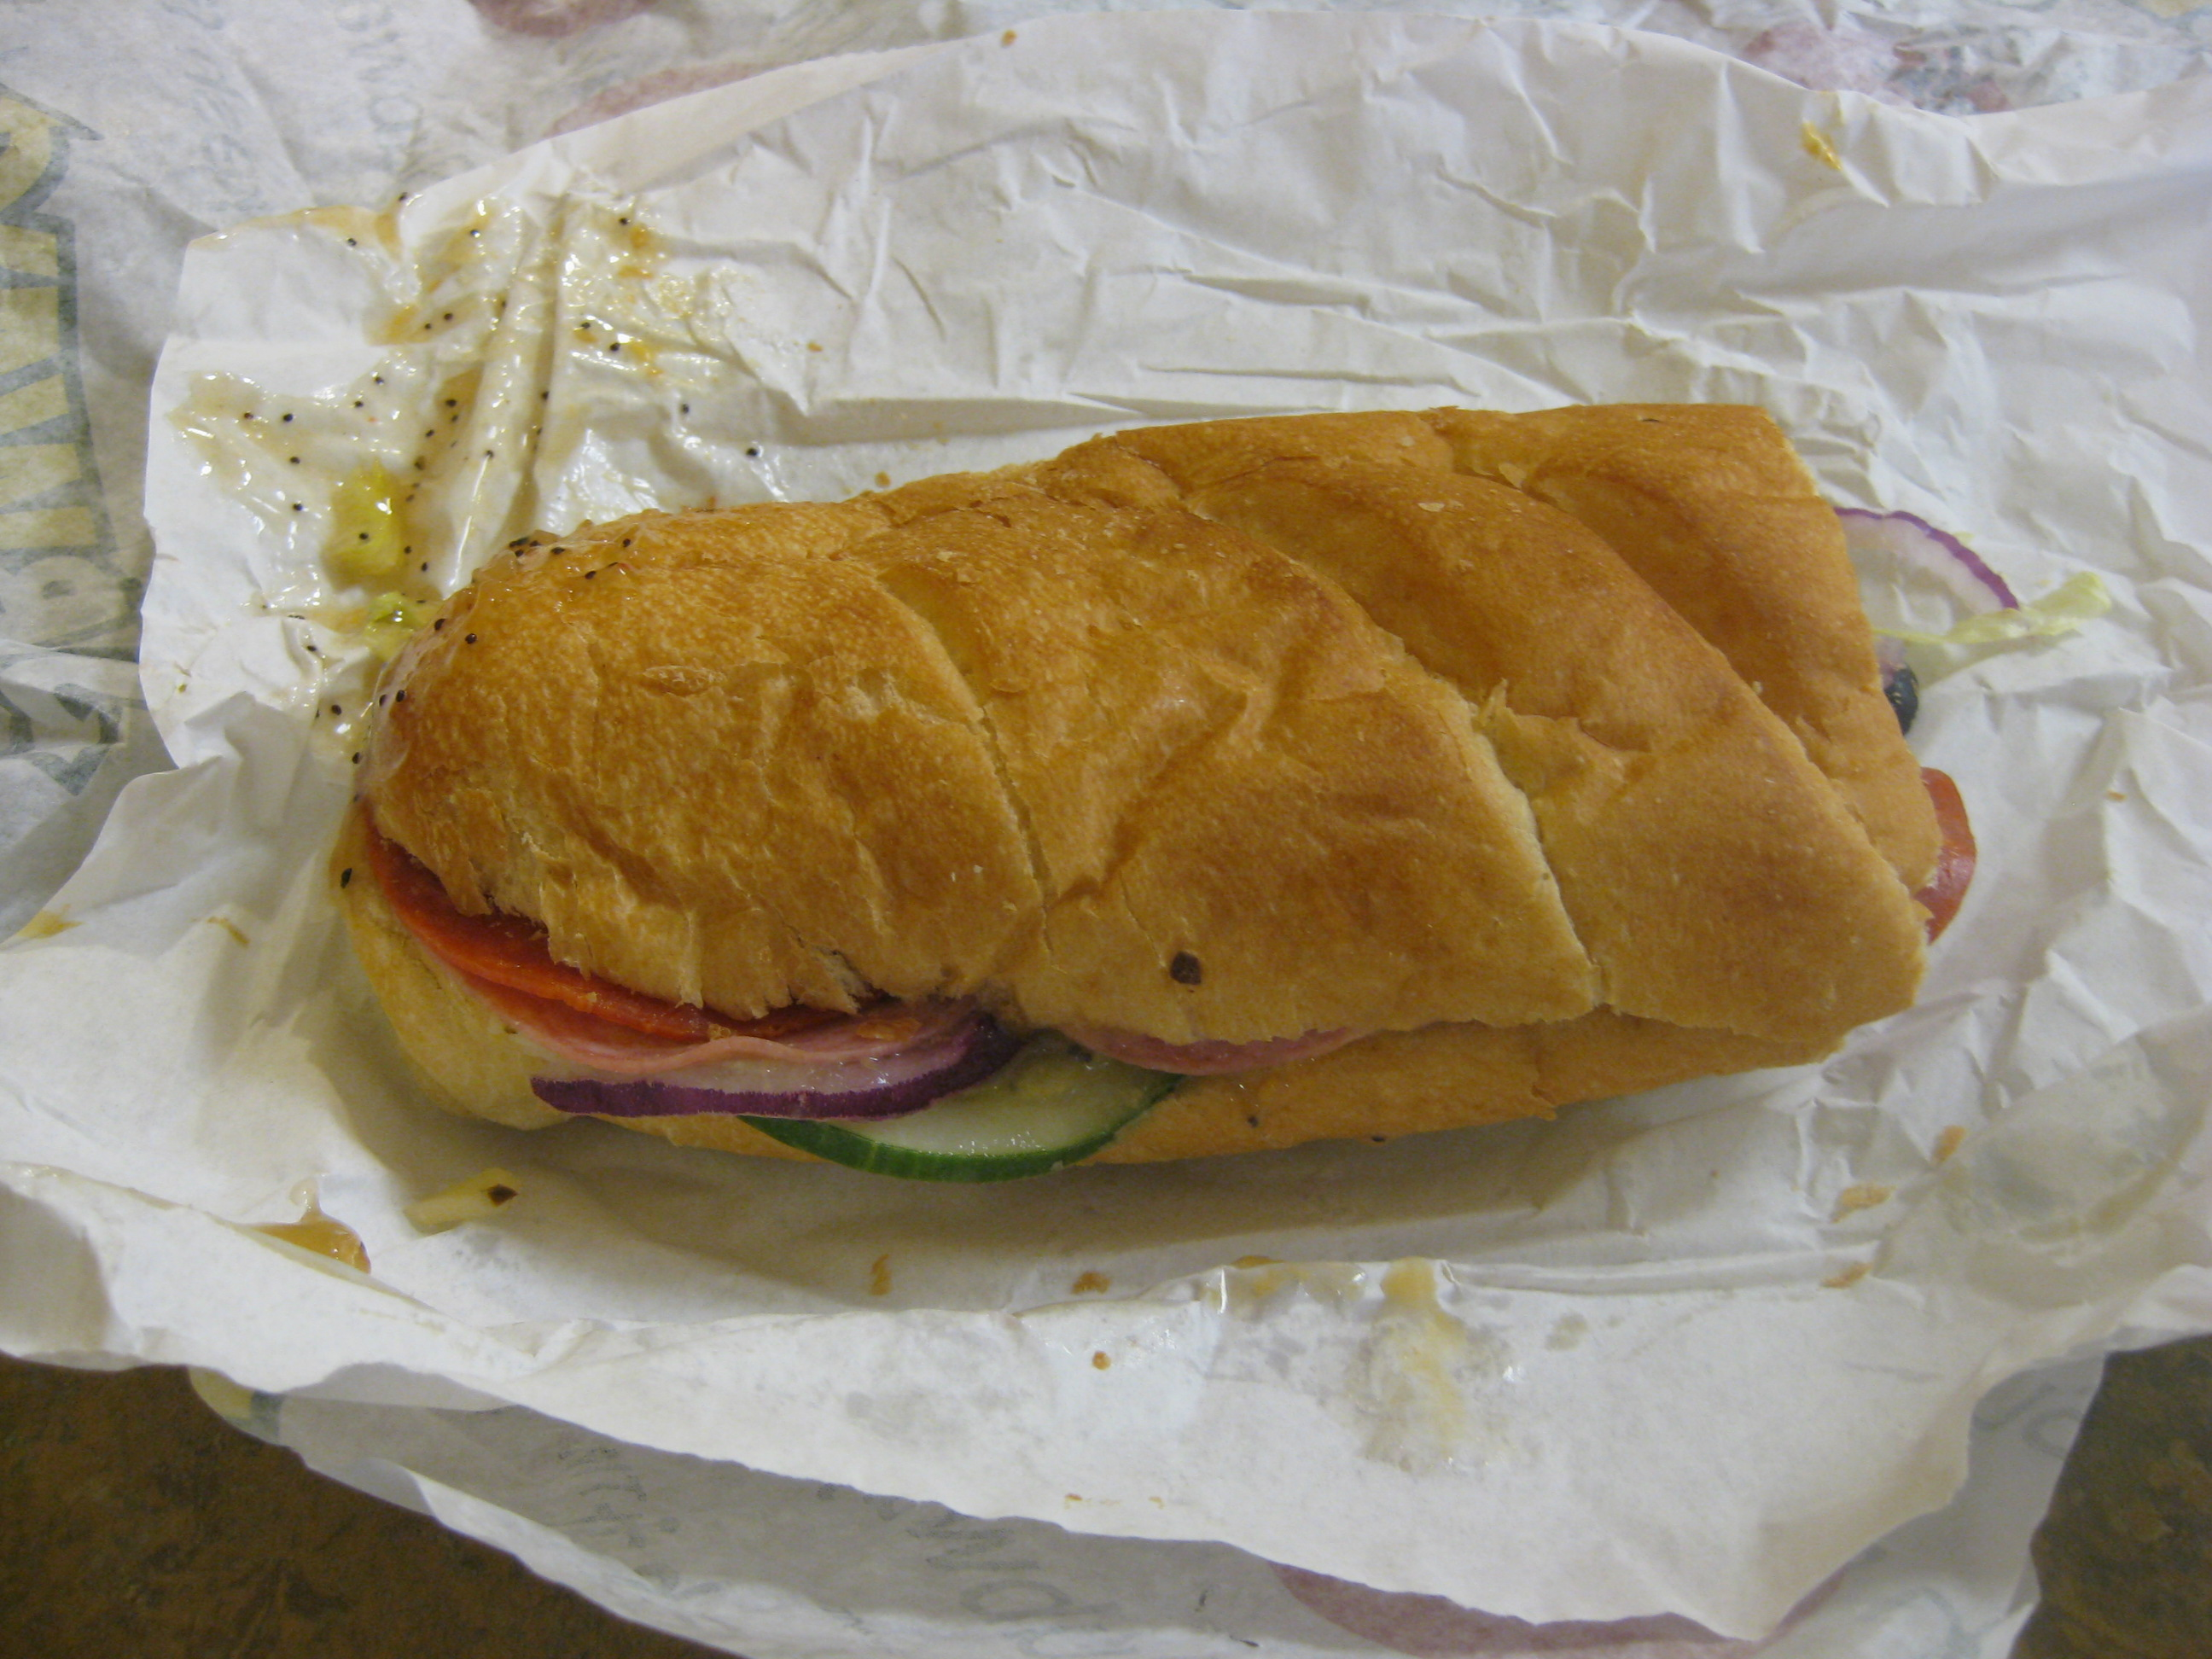sub: (341, 419, 2055, 1197)
